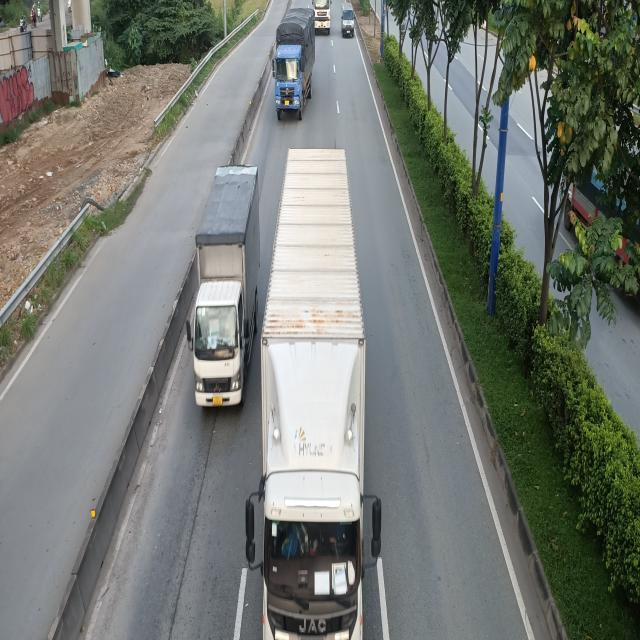container: (243, 142, 385, 640)
truck: (186, 166, 255, 411), (272, 6, 314, 117)
van: (342, 6, 356, 38)
